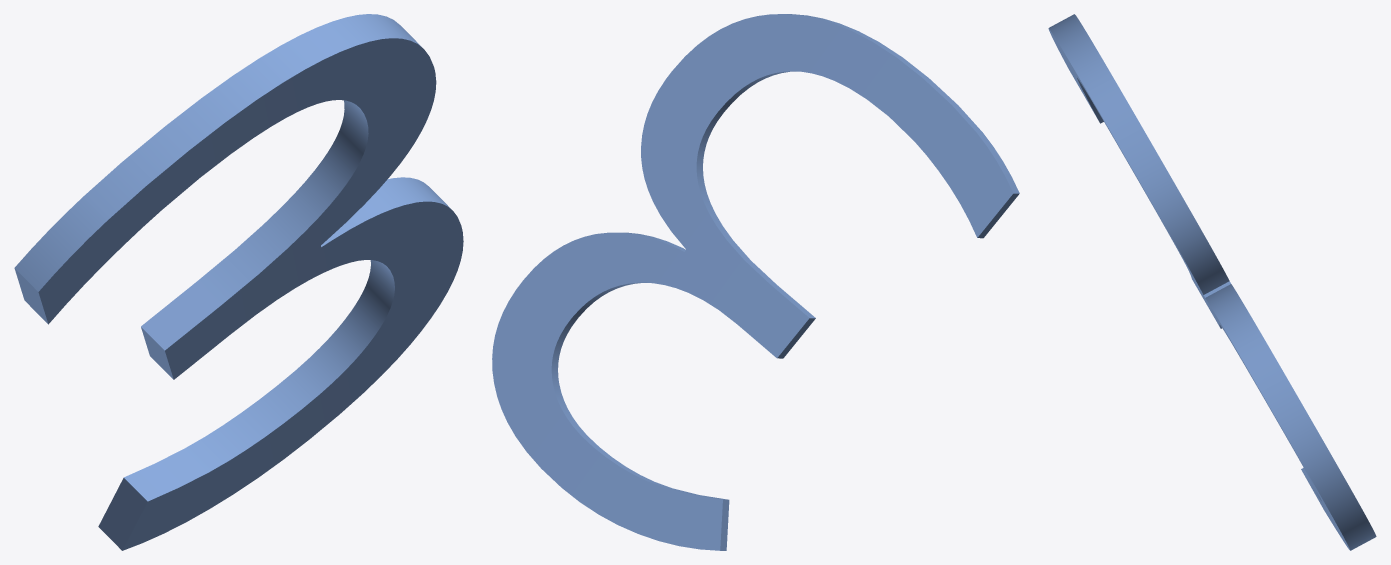
The model's file is New_Number_3.gltf.
3 renders of one model, left to right at view 1: azimuth 30°, elevation 25°; view 2: azimuth 150°, elevation 25°; view 3: azimuth 270°, elevation 25°, orthographic. The views are drawn at different scales.
Parts seen in each view (by area): view 1: Part 561; view 2: Part 561; view 3: Part 561.
Boxes of the visible parts, bbox=[...] form: Part 561: bbox=[14, 14, 463, 550]; Part 561: bbox=[492, 14, 1019, 550]; Part 561: bbox=[1048, 14, 1376, 550].
Size of the model in its own units: 0.00452 by 0.00467 by 0.00281.
